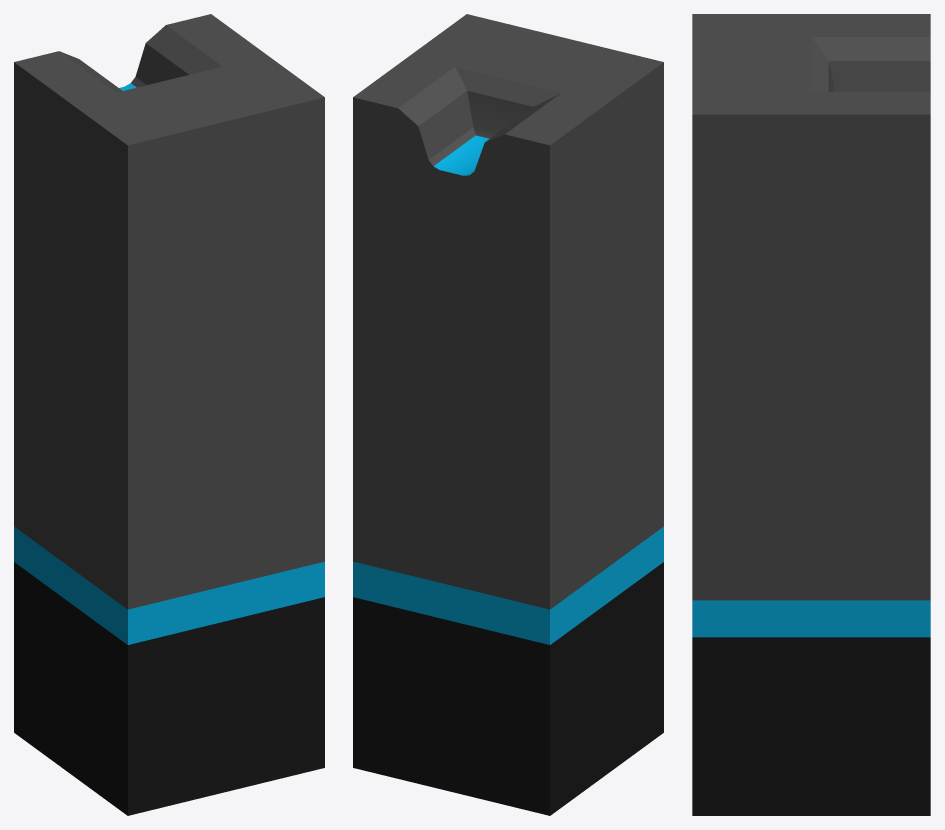
The model's file is Floor_Edge_01x1_S2.fbx.
The picture shows the model from 3 angles, left to right: view 1: azimuth 30°, elevation 25°; view 2: azimuth 150°, elevation 25°; view 3: azimuth 270°, elevation 25°; orthographic projection. The views are drawn at different scales.
Visible parts, largest first — view 1: Floor_Edge_01x1_S2; view 2: Floor_Edge_01x1_S2; view 3: Floor_Edge_01x1_S2.
Part boxes in pixels (x1,y1,x2,y2): Floor_Edge_01x1_S2: (14,14,324,815); Floor_Edge_01x1_S2: (353,14,663,815); Floor_Edge_01x1_S2: (692,14,930,815).
Size of the model in its own units: 200 by 650 by 200.
